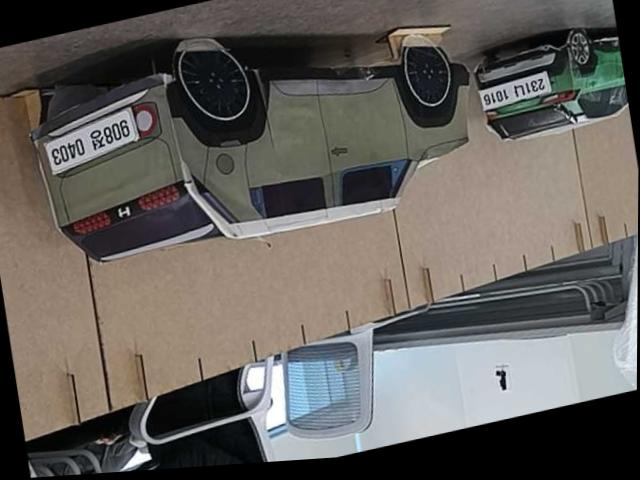car: (16, 0, 493, 296), (465, 13, 631, 156)
id: (40, 105, 143, 178), (473, 68, 556, 114)
